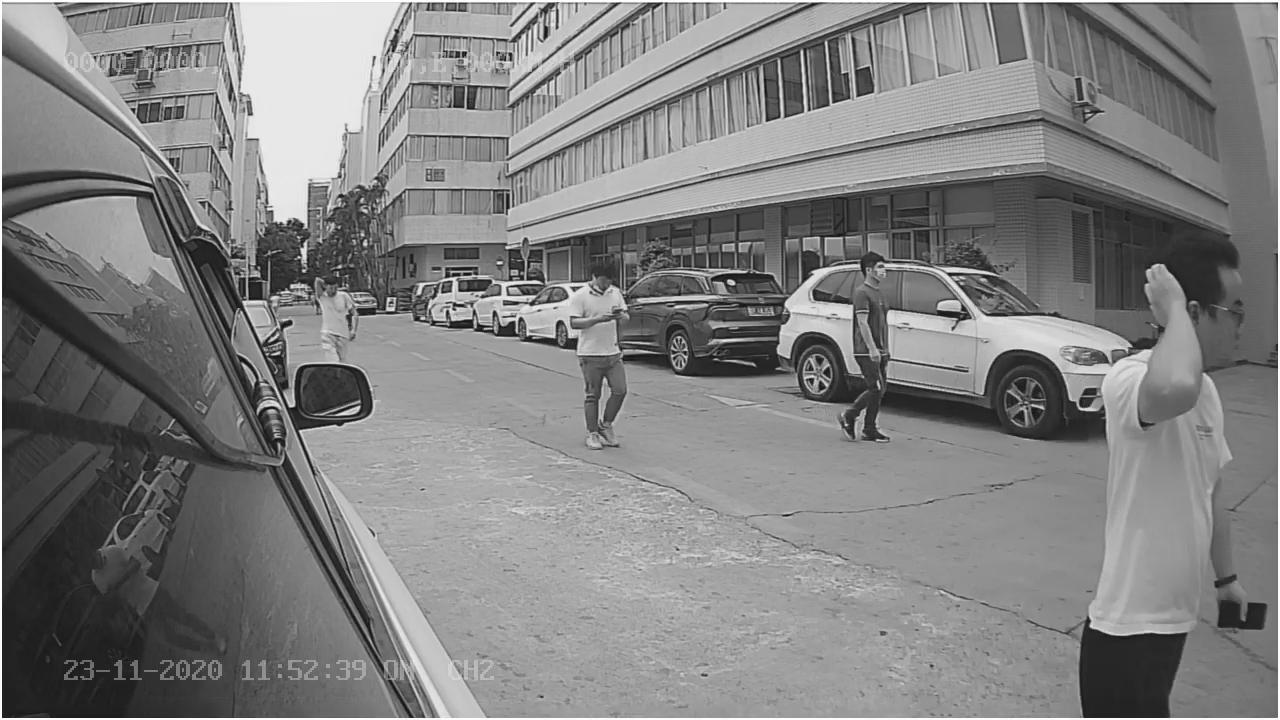person: (568, 261, 632, 452), (848, 251, 898, 447)
